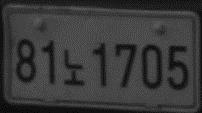0: (141, 44, 163, 90)
1: (40, 39, 56, 86), (92, 41, 108, 88)
5: (165, 44, 190, 91)
7: (112, 42, 137, 88)
8: (14, 38, 36, 82)
노: (62, 46, 85, 87)
